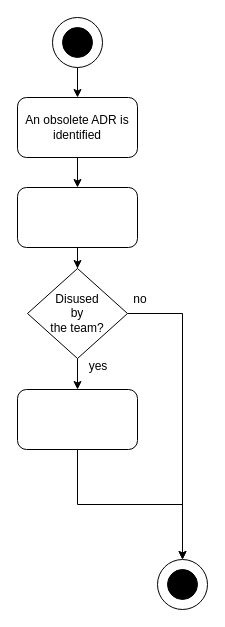
This 225x627 diagram has some shape labels left out. Here are the shapes that lost their labels. From the top down, the box of each, then its label:
(16, 186, 138, 248): A team member organizes a meeting to review the ADR
(16, 388, 138, 450): A team member changes the ADR in Disused status
